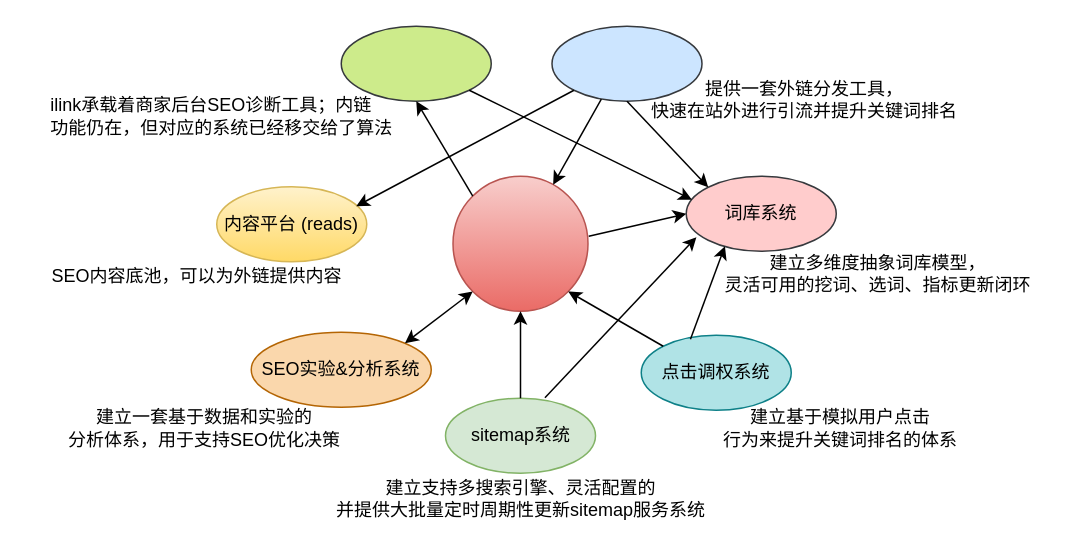
This 1068x555 diagram has some shape labels left out. The centre of each missing label's shape, as x and y in pixels:
"SEO承接系统" goes at (520,243).
"内链系统 (ilink)" goes at (415,63).
"外链系统" goes at (626,63).
